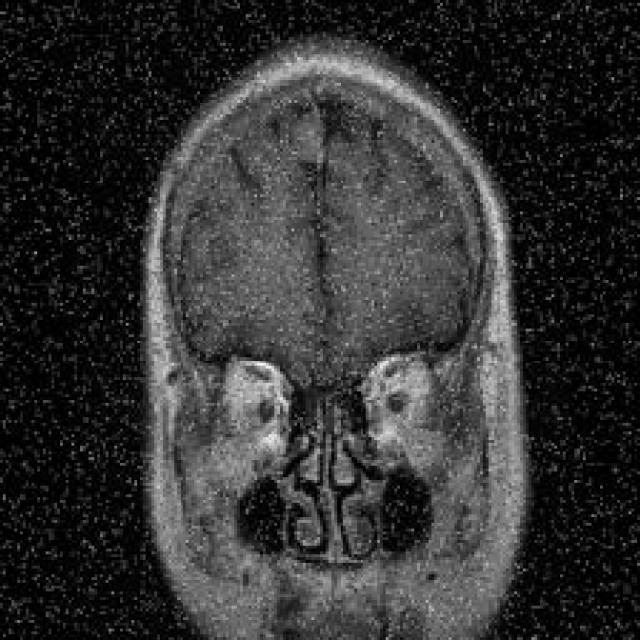meningioma_tumor: (280, 80, 347, 182)
